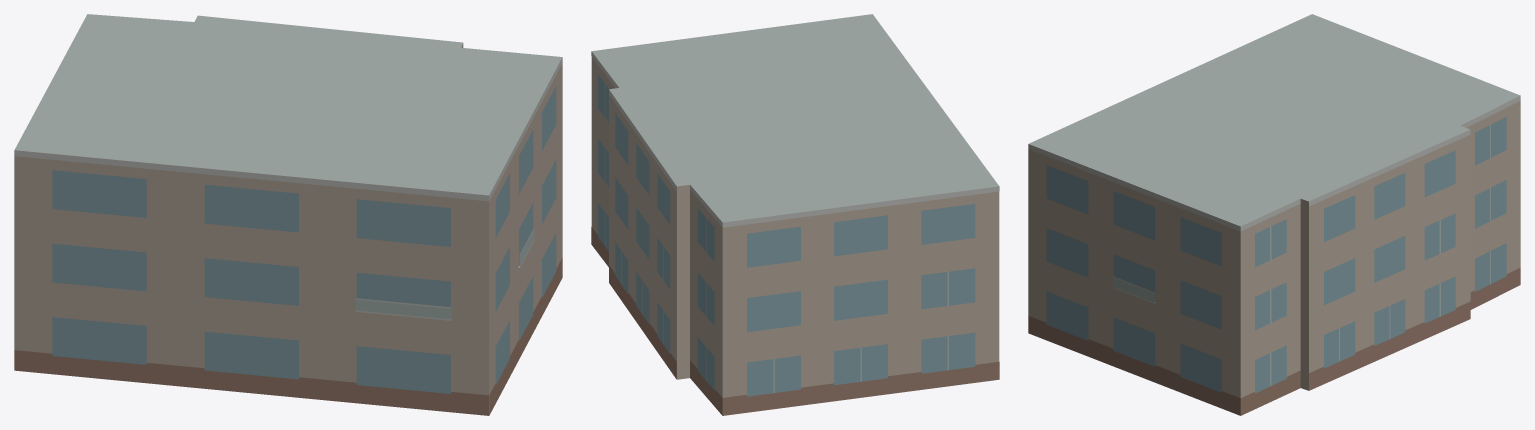
Rendered from survey-upis-32842139.glb.
The picture shows the model from 3 angles, left to right: view 1: azimuth 30°, elevation 25°; view 2: azimuth 150°, elevation 25°; view 3: azimuth 270°, elevation 25°; orthographic projection. The views are drawn at different scales.
Visible parts, largest first — view 1: survey-upis-32842139.tmp; view 2: survey-upis-32842139.tmp; view 3: survey-upis-32842139.tmp.
Boxes of the visible parts, <box> form: survey-upis-32842139.tmp: <box>14,14,562,415</box>; survey-upis-32842139.tmp: <box>591,14,999,415</box>; survey-upis-32842139.tmp: <box>1028,14,1520,415</box>.
Bounding box in the file's own units: 22.02 × 9.15 × 21.56.
